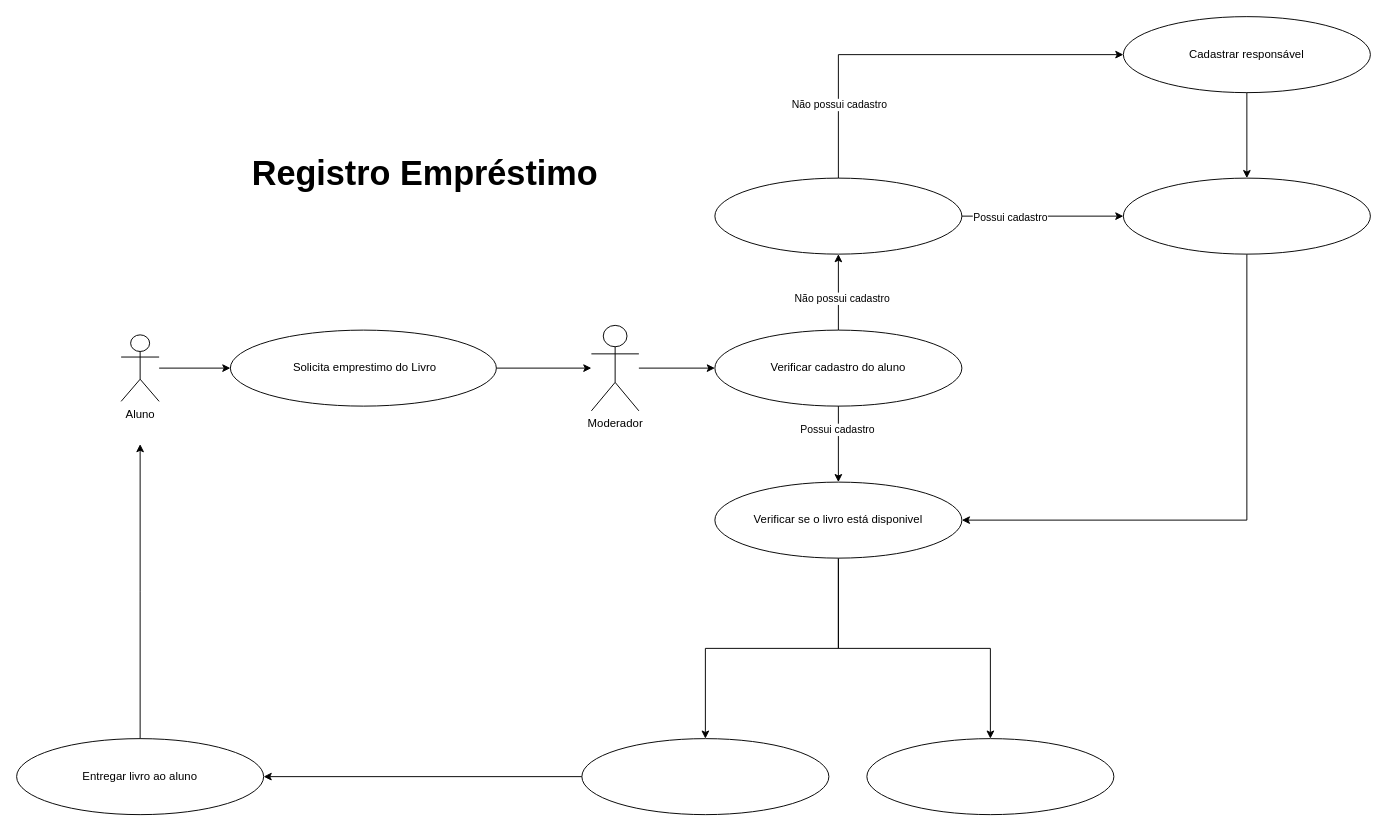
Image size: 1387x831. Some labels were removed from this diagram. The shapes that lost their labels are listed below. From the top down, each one's centre as x and y in pixels, then its label:
At pixel 838 215: "Verfificar cadastro responsável".
At pixel 1246 215: "Cadastrar aluno".
At pixel 705 776: "Realizar emprestimo do livro".
At pixel 990 776: "Livro indisponivel".
